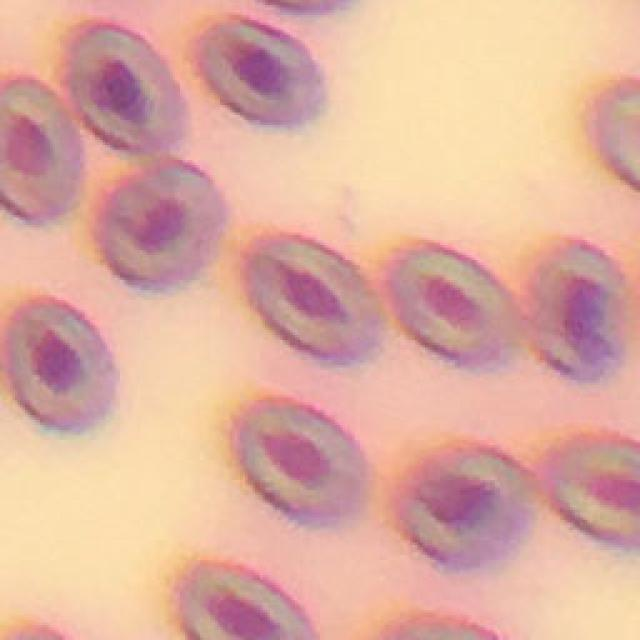RBC: (89, 157, 232, 296), (239, 232, 388, 365), (231, 394, 371, 528), (389, 448, 541, 571), (385, 241, 524, 372), (63, 20, 189, 156), (524, 236, 634, 389), (2, 299, 120, 436), (192, 18, 329, 133), (0, 75, 89, 230), (164, 560, 326, 640), (544, 431, 640, 552)
